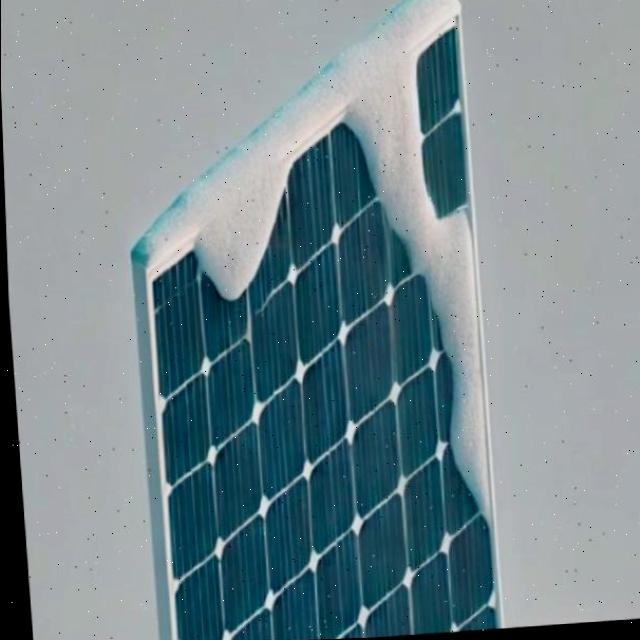Anomaly Solar Panel: (136, 21, 494, 640)
Snow: (329, 53, 561, 543), (175, 130, 301, 309)
